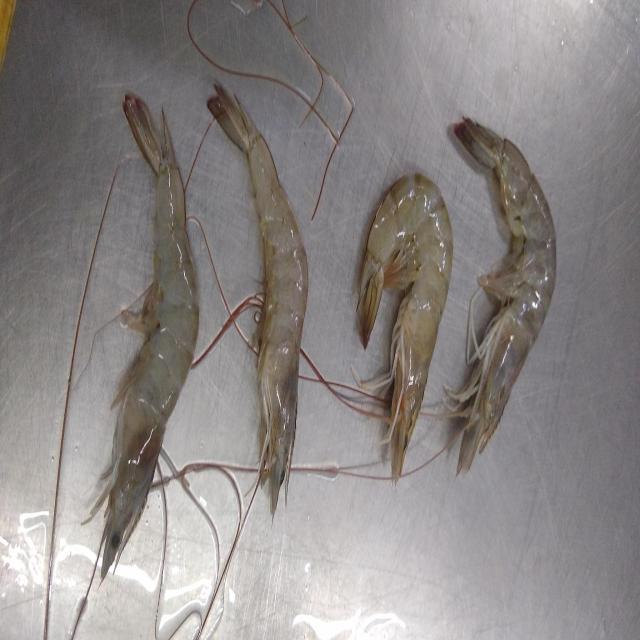shrimp: (89, 93, 199, 580), (208, 84, 308, 516), (446, 118, 556, 473), (358, 173, 452, 482)
